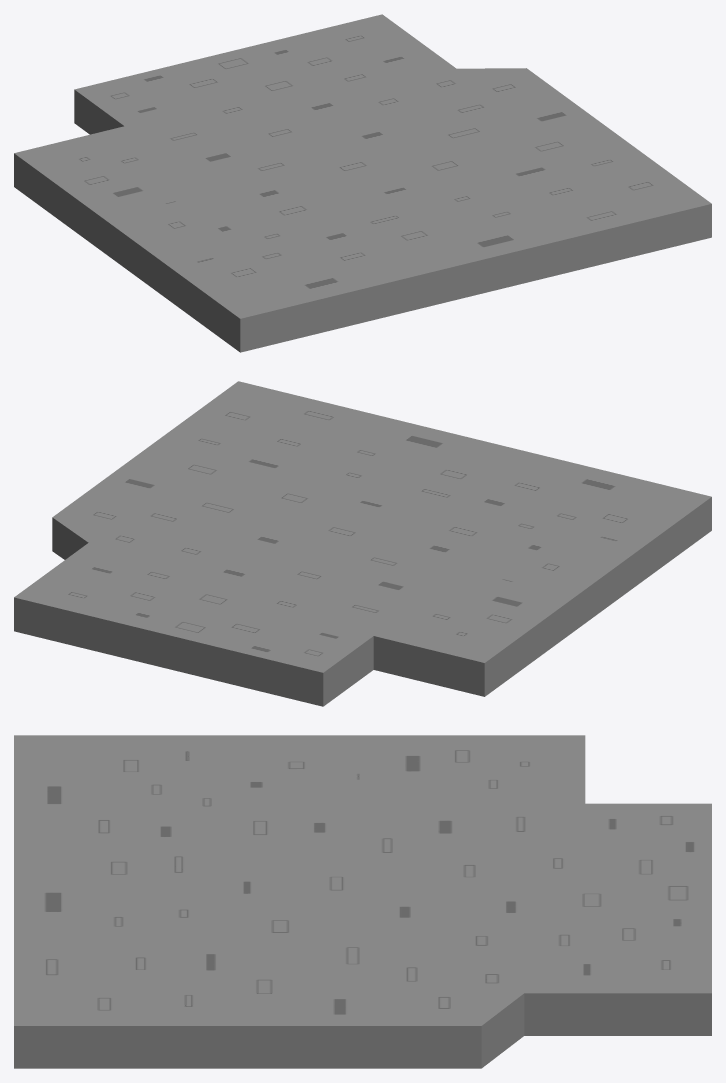
Rendered from Suelo.fbx.
The picture shows the model from 3 angles, top to bottom: view 1: azimuth 30°, elevation 25°; view 2: azimuth 150°, elevation 25°; view 3: azimuth 270°, elevation 25°; orthographic projection. The views are drawn at different scales.
Visible parts, largest first — view 1: suelo; view 2: suelo; view 3: suelo.
Part boxes in pixels (x1,y1,x2,y2): suelo: (14,14,711,352); suelo: (14,381,711,706); suelo: (14,735,711,1068).
Bounding box in the file's own units: 926 × 63.37 × 940.
